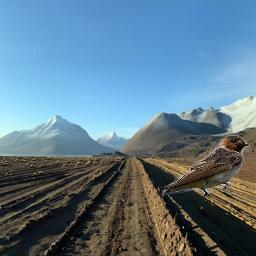Swallow: (160, 134, 250, 199)
